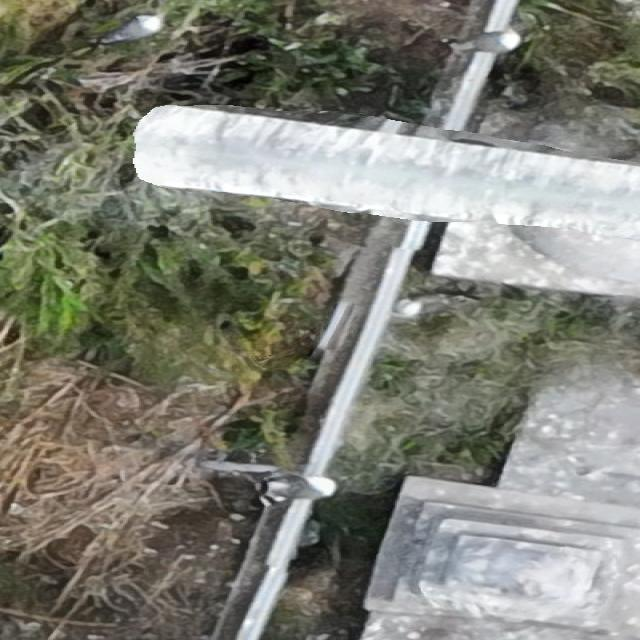umineko: (261, 473, 338, 500), (398, 290, 475, 314), (451, 30, 523, 52), (107, 14, 163, 42)
